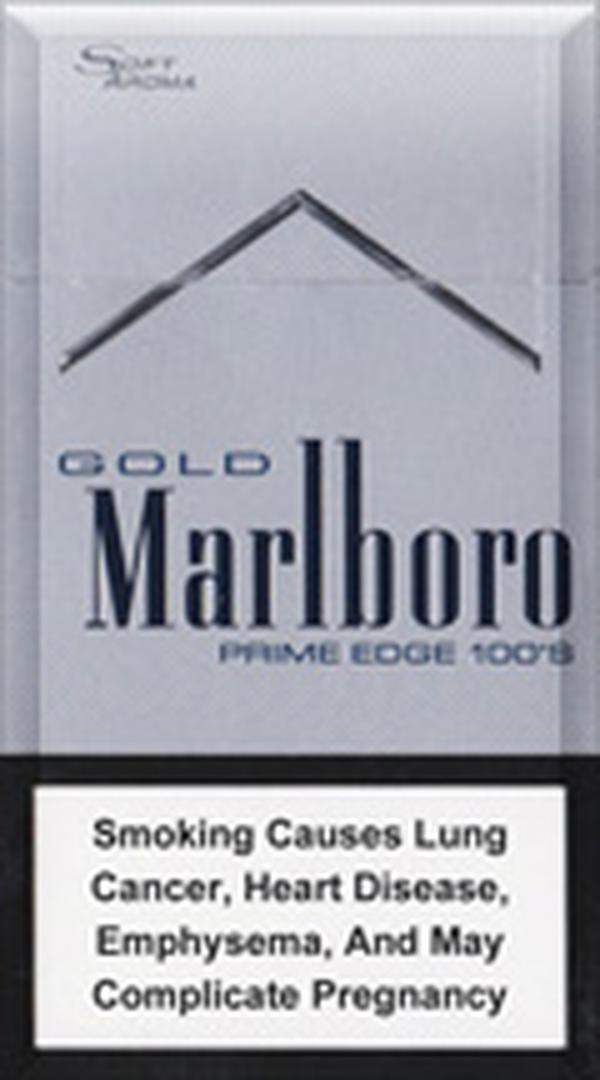marlboro_gold: (1, 8, 600, 1071)
